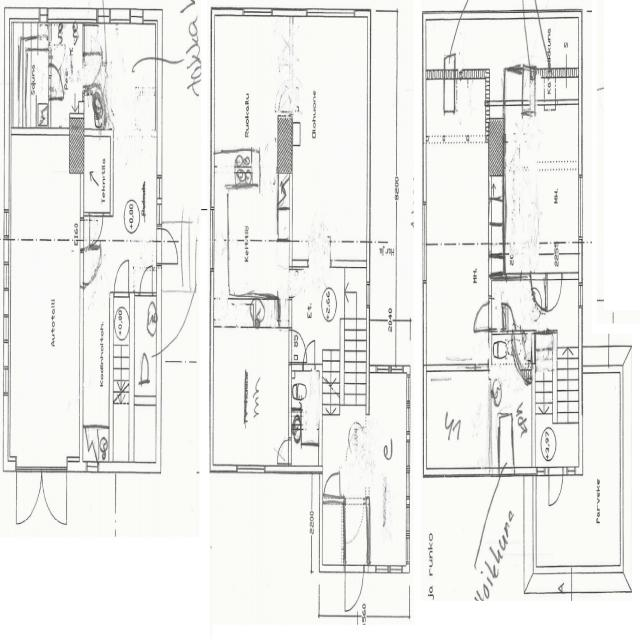door: (160, 285, 192, 355), (343, 496, 366, 548), (344, 560, 365, 614), (159, 224, 180, 270), (112, 254, 132, 296), (82, 245, 100, 288), (290, 328, 310, 365), (547, 466, 564, 508), (546, 270, 563, 312), (473, 298, 491, 334), (83, 52, 102, 86), (323, 467, 341, 502), (290, 264, 307, 298), (138, 262, 154, 296), (48, 62, 63, 98), (303, 335, 317, 369), (276, 435, 290, 463), (503, 301, 515, 327)
window: (106, 5, 145, 25), (576, 170, 584, 243), (242, 3, 272, 19), (236, 460, 266, 476), (373, 560, 392, 576), (388, 562, 405, 577)
zone: (290, 12, 370, 257), (6, 220, 82, 463), (505, 102, 581, 268), (212, 325, 290, 467), (213, 13, 286, 161), (108, 19, 158, 235), (98, 292, 158, 462), (213, 175, 285, 314), (425, 244, 491, 367), (368, 373, 409, 570), (424, 143, 500, 246), (426, 369, 492, 469), (490, 358, 533, 474), (13, 458, 69, 531), (49, 20, 84, 123), (130, 294, 157, 412), (290, 365, 321, 464), (12, 41, 48, 126), (532, 13, 581, 70), (83, 132, 112, 218), (496, 277, 537, 328), (320, 497, 345, 569), (538, 71, 579, 106), (490, 329, 522, 363)
